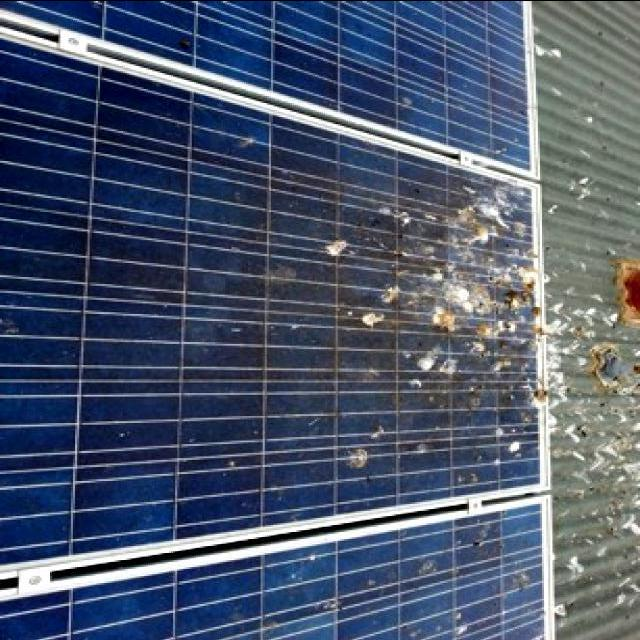soiled: (0, 63, 556, 635)
